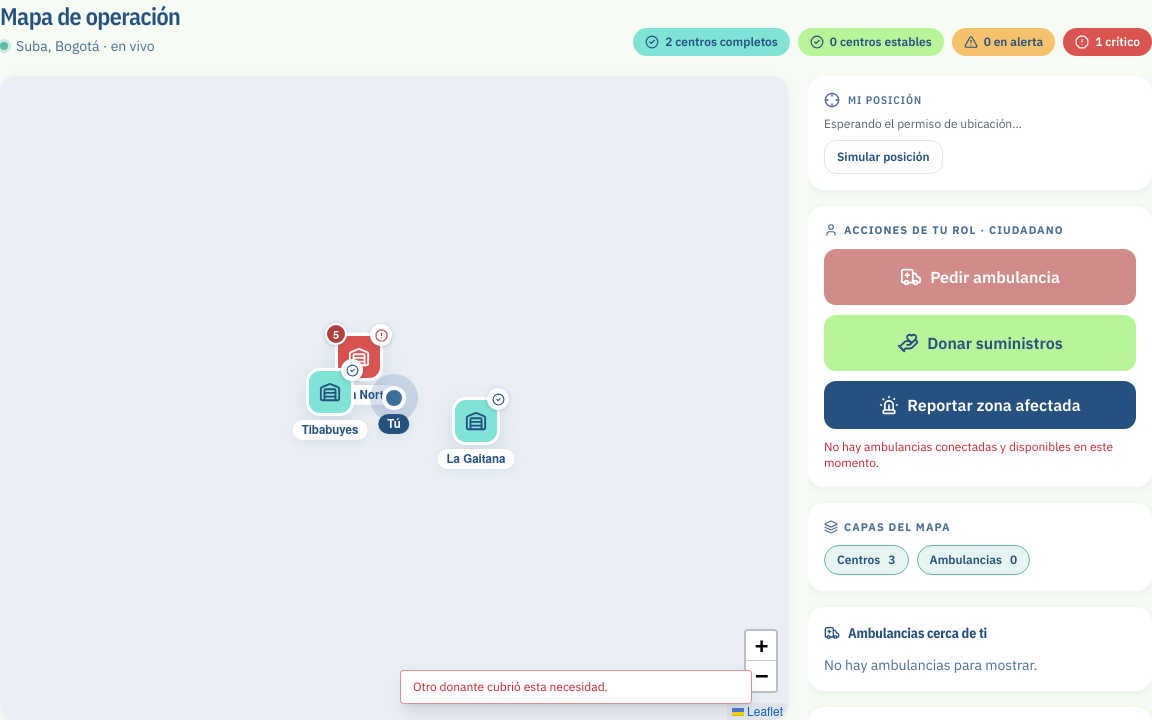
Scenario: CitizenMapPage donation off demo mode › tells the donor what really entered when the server accepts less than offered
The image size is (1152, 720).
Click the button with class "nv-marker" at (359, 357), box [335,333,383,381]
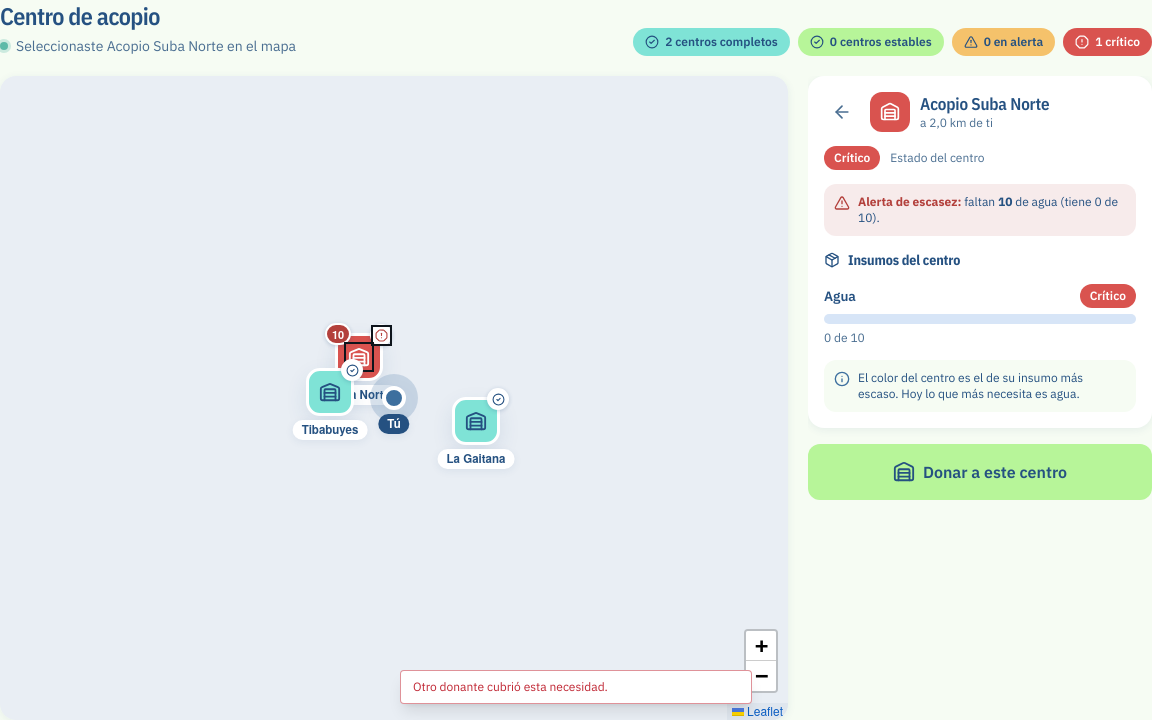
Now the button "Donar a este centro" is enabled
Click the button "Donar a este centro" at (980, 472), box [808,444,1151,500]
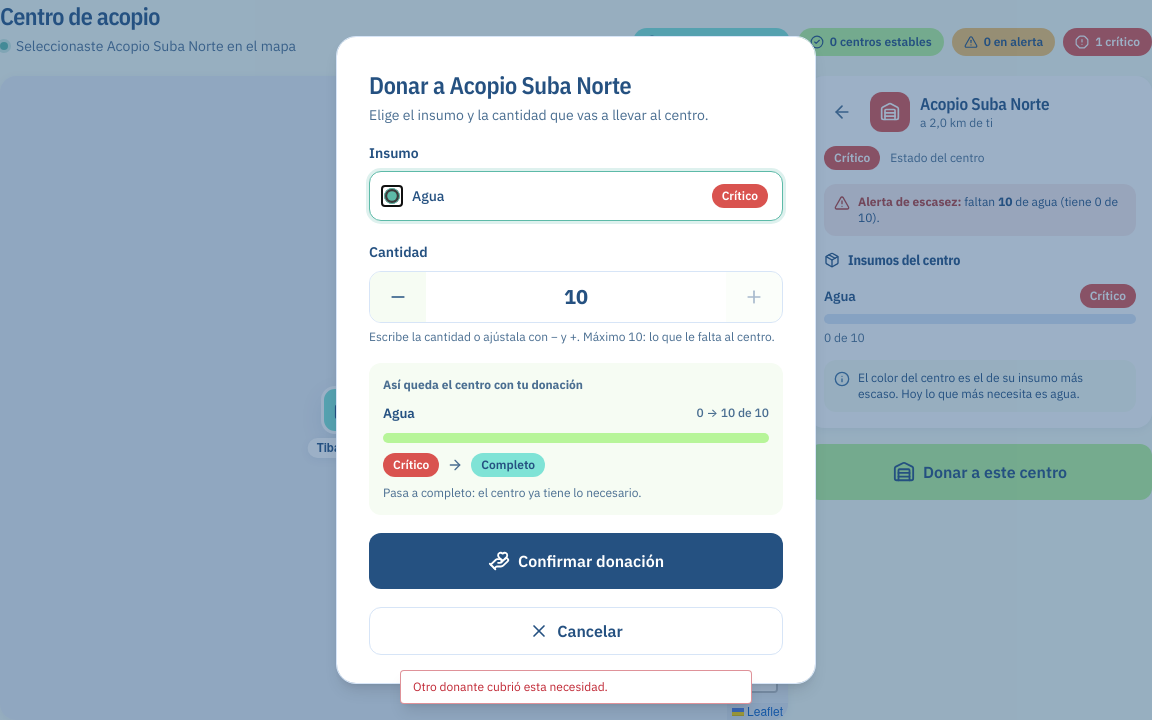
Click the button "Confirmar donación" at (576, 561), box [369,533,783,589]
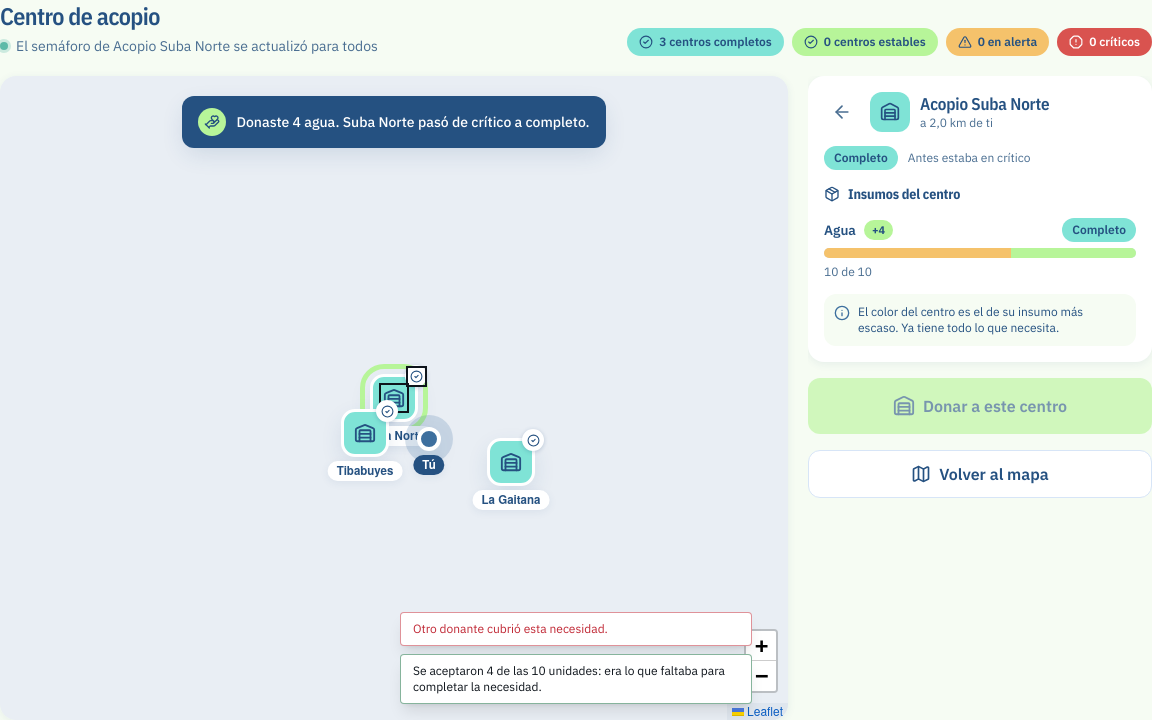
Now the list item "Se aceptaron 4 de las 10 unidades: era lo que faltaba para completar la necesidad." is shown, box [413,663,725,694]
